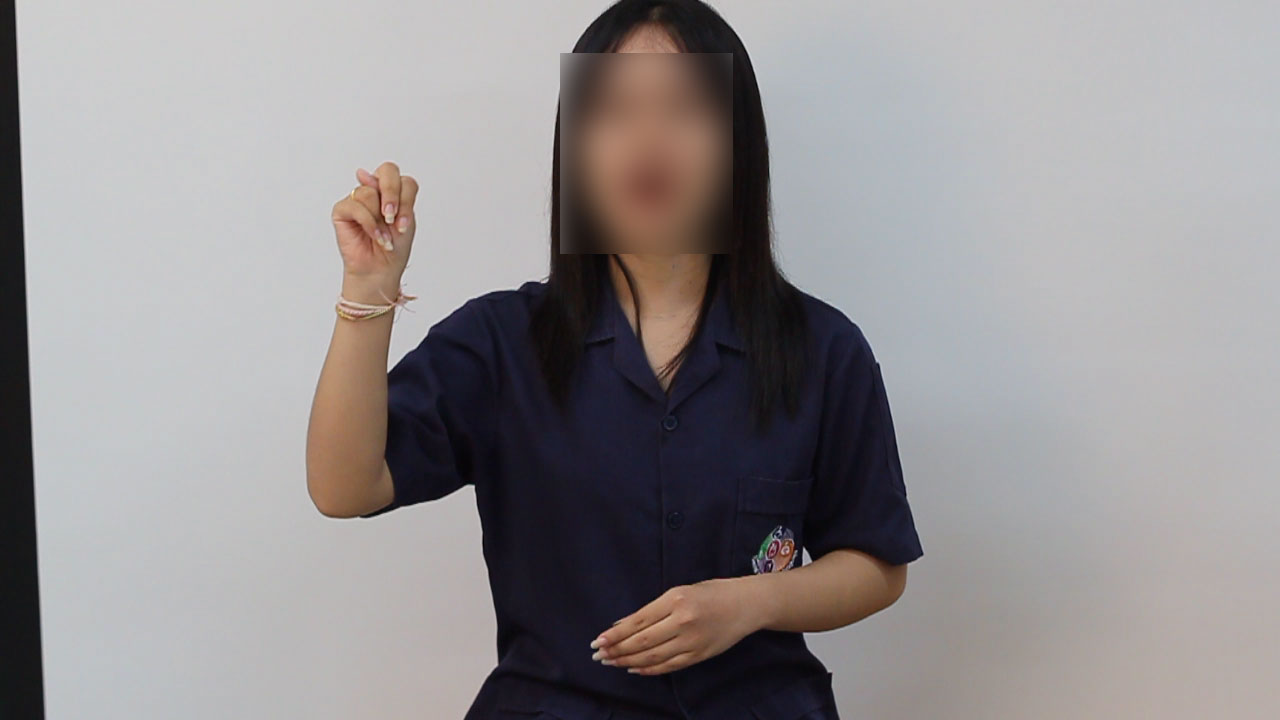nor: (313, 152, 436, 302)
